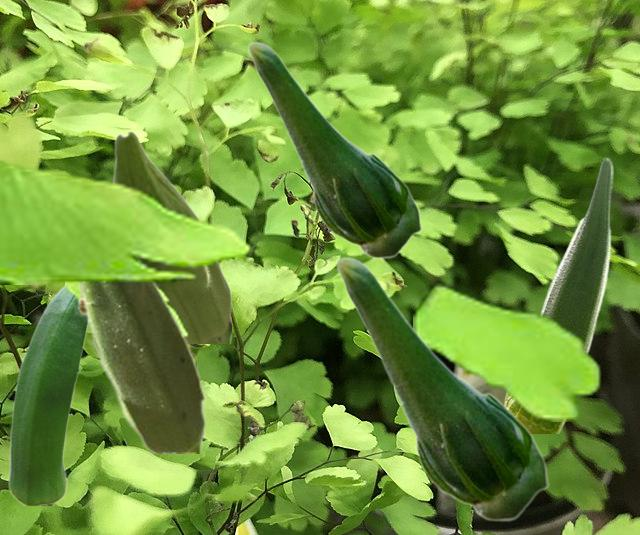okra: (335, 256, 548, 521), (247, 41, 421, 258), (503, 156, 612, 432), (73, 261, 204, 452), (112, 130, 230, 342), (7, 284, 87, 504)
